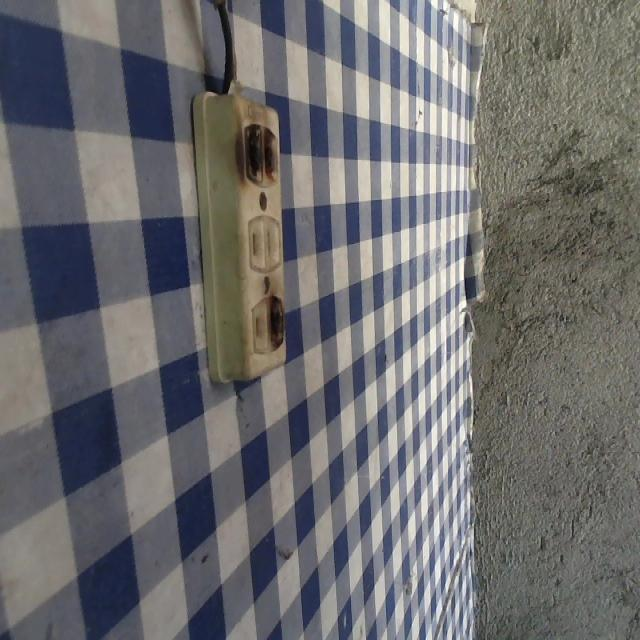-: (233, 114, 285, 190), (267, 295, 297, 352)
